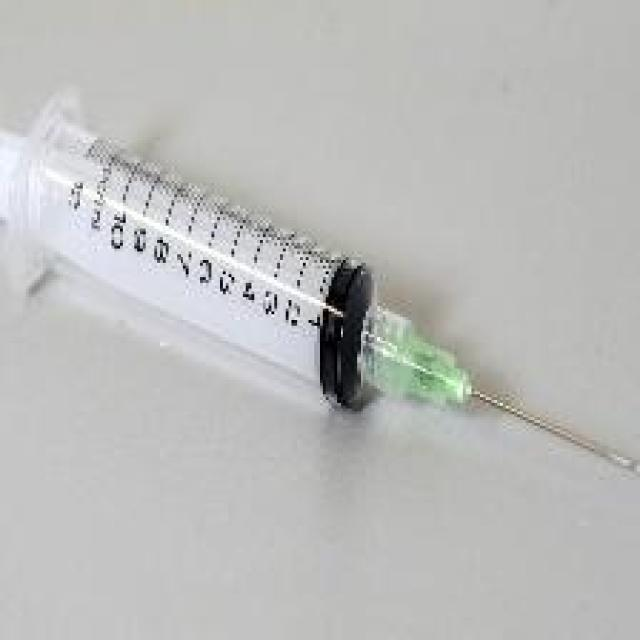syringe: (0, 55, 640, 478)
